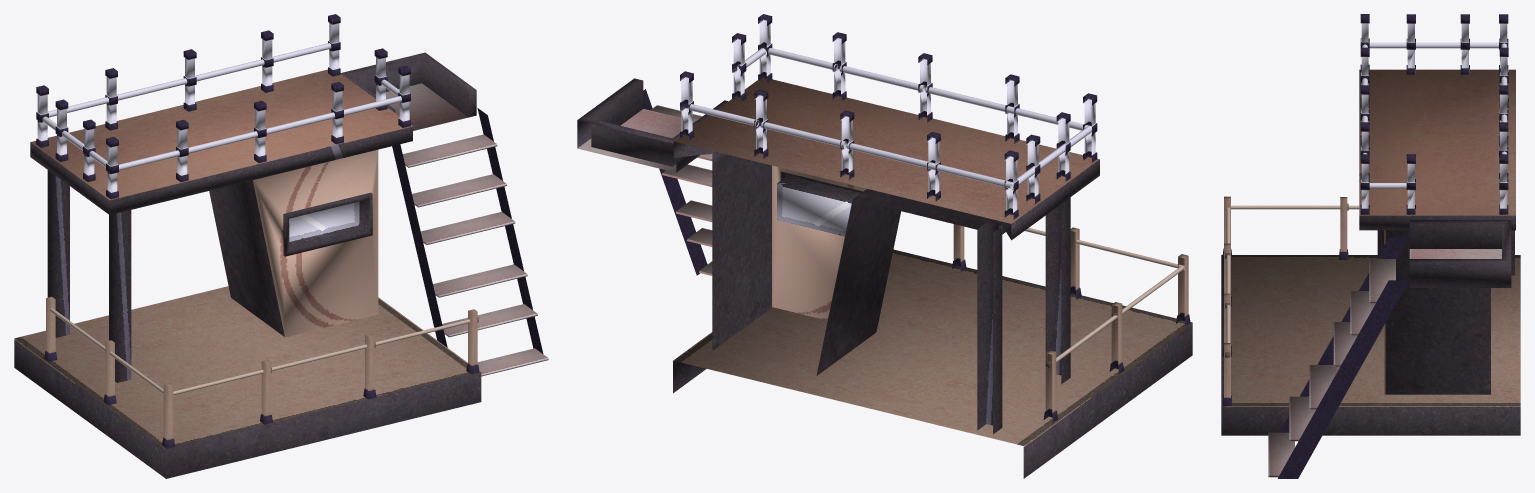
The picture shows the model from 3 angles, left to right: view 1: azimuth 30°, elevation 25°; view 2: azimuth 150°, elevation 25°; view 3: azimuth 270°, elevation 25°; orthographic projection. The views are drawn at different scales.
Visible parts, largest first — view 1: Box002, Box005, Object037, Object038, Object025, Object027, Object028, Object032, Object029, Object026, Object030, Box008 (+19 smaller); view 2: Box002, Box005, Object038, Object037, Object027, Object002, Object006, Object036, Object004, Object010, Object003, Object035 (+13 smaller); view 3: Box002, Box005, Object027, Object025, Object031, Object026, Object030, Object032, Object028, Object023, Object029, Box006 (+14 smaller).
Part boxes in pixels (left/top/right/bottom): Box002: left=14, top=69, right=481, bottom=478; Box005: left=341, top=52, right=476, bottom=130; Object037: left=109, top=210, right=131, bottom=382; Object038: left=47, top=170, right=69, bottom=337; Object025: left=392, top=144, right=447, bottom=347; Object027: left=477, top=108, right=543, bottom=353; Object028: left=412, top=174, right=506, bottom=207; Object032: left=433, top=264, right=527, bottom=297; Object029: left=420, top=211, right=515, bottom=244; Object026: left=403, top=134, right=497, bottom=167; Object030: left=442, top=304, right=537, bottom=337; Box008: left=271, top=334, right=376, bottom=399; Box002: left=673, top=78, right=1192, bottom=478; Box005: left=577, top=78, right=728, bottom=172; Object038: left=977, top=222, right=1002, bottom=434; Object037: left=1045, top=197, right=1070, bottom=384; Object027: left=643, top=89, right=707, bottom=275; Object002: left=732, top=33, right=746, bottom=102; Object006: left=832, top=32, right=846, bottom=101; Object036: left=1043, top=350, right=1057, bottom=422; Object004: left=1004, top=150, right=1018, bottom=219; Object010: left=680, top=71, right=693, bottom=140; Object003: left=1056, top=112, right=1070, bottom=181; Object035: left=1109, top=302, right=1123, bottom=374; Box002: left=1221, top=69, right=1520, bottom=435; Box005: left=1409, top=220, right=1511, bottom=287; Object027: left=1277, top=280, right=1409, bottom=478; Object025: left=1279, top=237, right=1409, bottom=432; Object031: left=1268, top=432, right=1294, bottom=477; Object026: left=1369, top=259, right=1395, bottom=303; Object030: left=1289, top=396, right=1315, bottom=441; Object032: left=1309, top=365, right=1336, bottom=409; Object028: left=1350, top=291, right=1375, bottom=335; Object023: left=1369, top=42, right=1498, bottom=48; Object029: left=1333, top=322, right=1357, bottom=366; Box006: left=1222, top=305, right=1231, bottom=405.
Size of the model in its own units: 66.88 by 44.24 by 43.25.
1 material, 1 textured.
